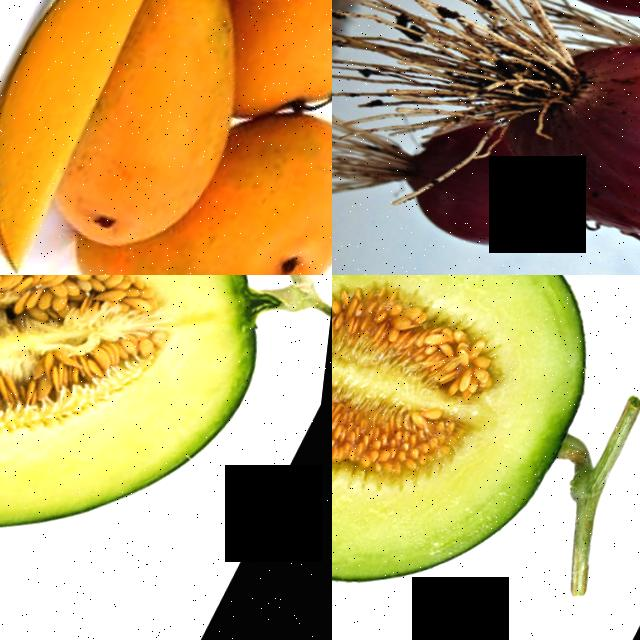mango: (38, 0, 311, 275), (0, 0, 177, 275), (137, 87, 332, 275)
melon: (0, 275, 332, 640), (332, 275, 640, 640)
onion: (489, 0, 640, 275), (388, 129, 607, 275)
